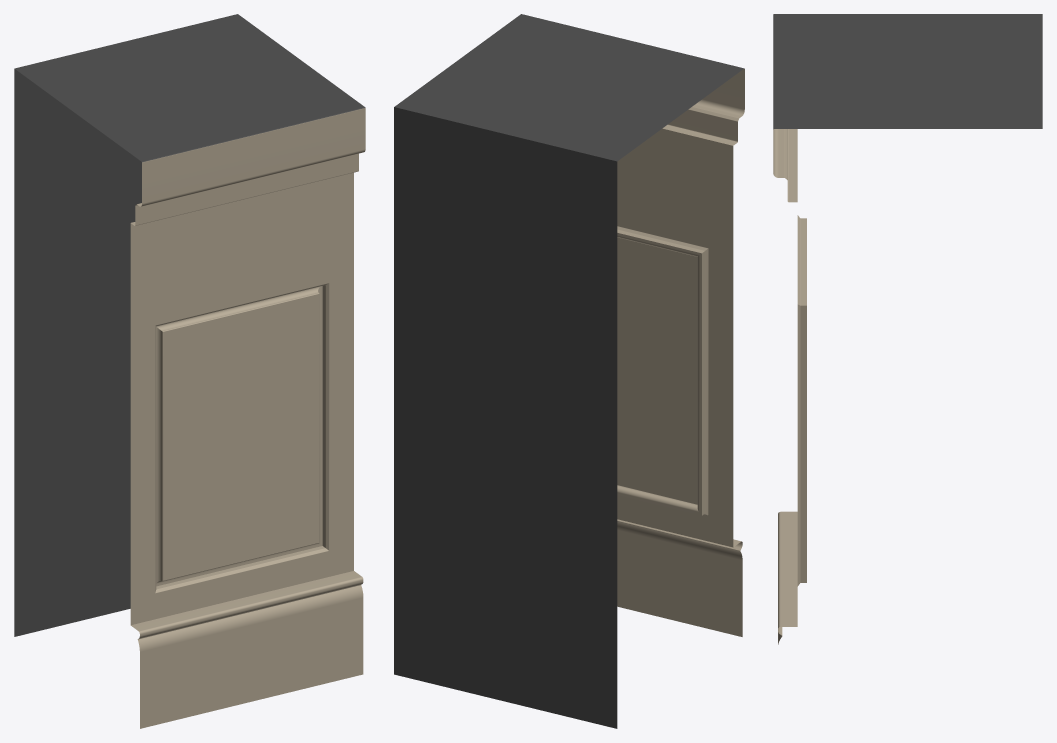
The model's file is Wallset_02.1.09.fbx.
3 renders of one model, left to right at view 1: azimuth 30°, elevation 25°; view 2: azimuth 150°, elevation 25°; view 3: azimuth 270°, elevation 25°, orthographic. The views are drawn at different scales.
Parts seen in each view (by area): view 1: polySurface14; view 2: polySurface14; view 3: polySurface14.
Boxes of the visible parts, x1,y1,x2,y2 form: polySurface14: [14, 14, 365, 728]; polySurface14: [394, 14, 744, 728]; polySurface14: [773, 14, 1042, 644].
Size of the model in its own units: 100 by 243 by 98.98.
